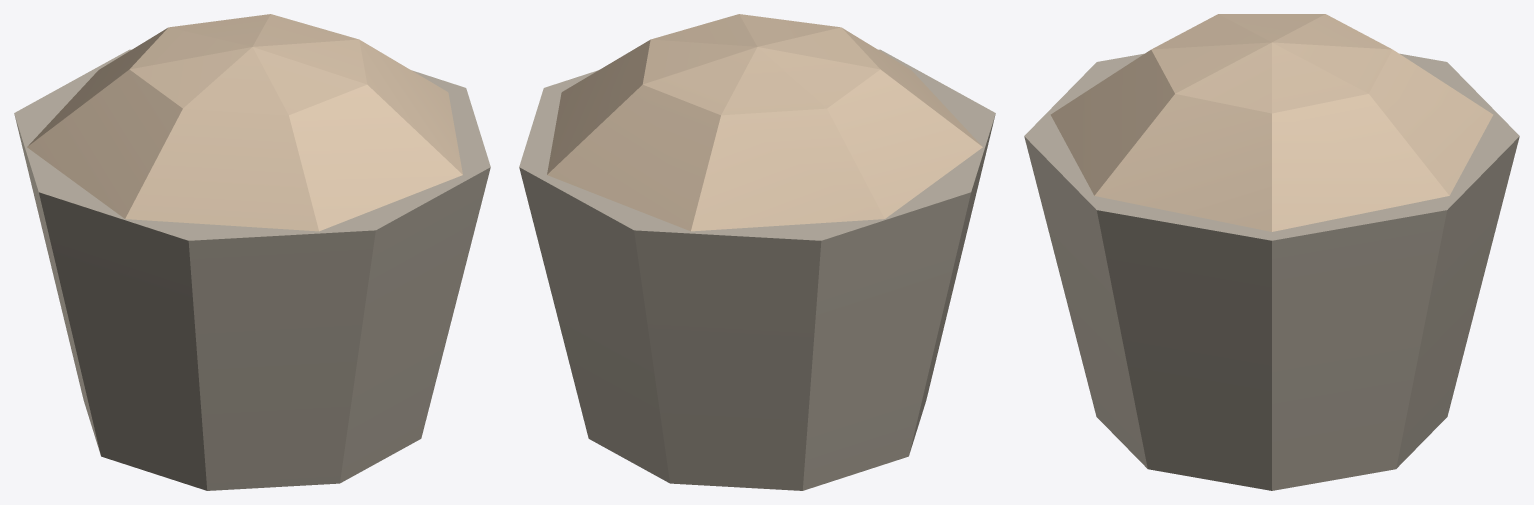
Rendered from herb_basket_2.glb.
The picture shows the model from 3 angles, left to right: view 1: azimuth 30°, elevation 25°; view 2: azimuth 150°, elevation 25°; view 3: azimuth 270°, elevation 25°; orthographic projection.
Parts seen in each view (by area): view 1: basket; view 2: basket; view 3: basket.
Boxes of the visible parts, <box> form: basket: <box>14,14,490,490</box>; basket: <box>519,14,995,490</box>; basket: <box>1024,14,1519,490</box>.
Bounding box in the file's own units: 0.48 × 0.4 × 0.48.
